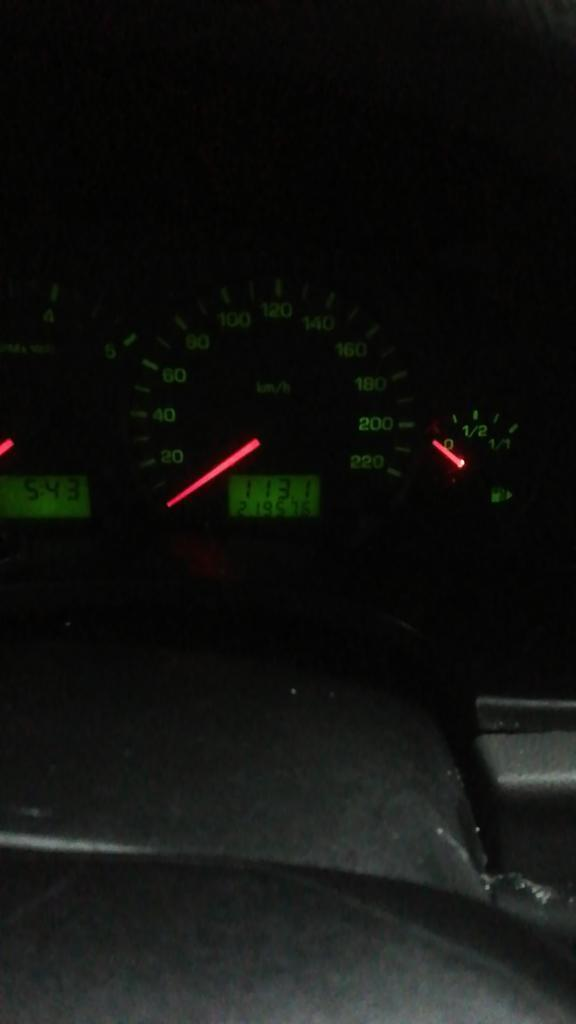,: (290, 493, 296, 500)
1: (304, 477, 312, 498), (245, 478, 253, 498), (265, 478, 272, 498), (255, 500, 261, 517)
2: (237, 499, 249, 516)
3: (278, 477, 290, 500)
5: (275, 500, 285, 516)
6: (301, 500, 313, 515)
7: (289, 501, 300, 517)
9: (262, 499, 272, 516)
odometer: (227, 474, 321, 519)
